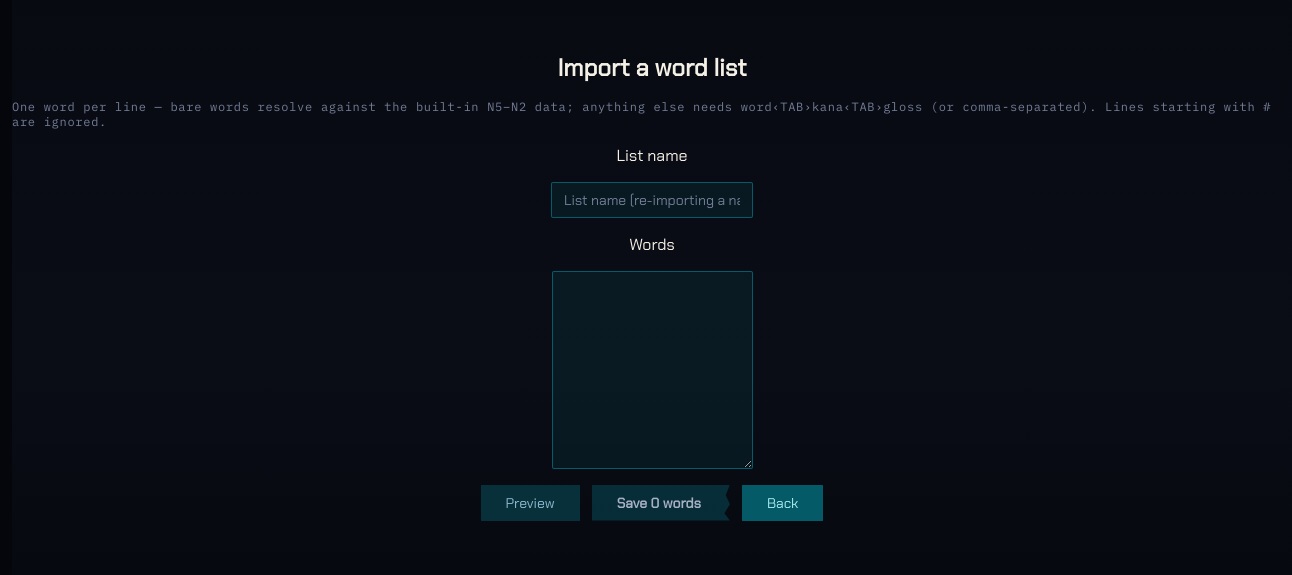
Scenario: ImportScreen › a failed save shows an inline error and stays on the screen
Type "x" into the field with test id "import-name" at x=652, y=200, box top-left (551, 182), bottom-right (753, 218)
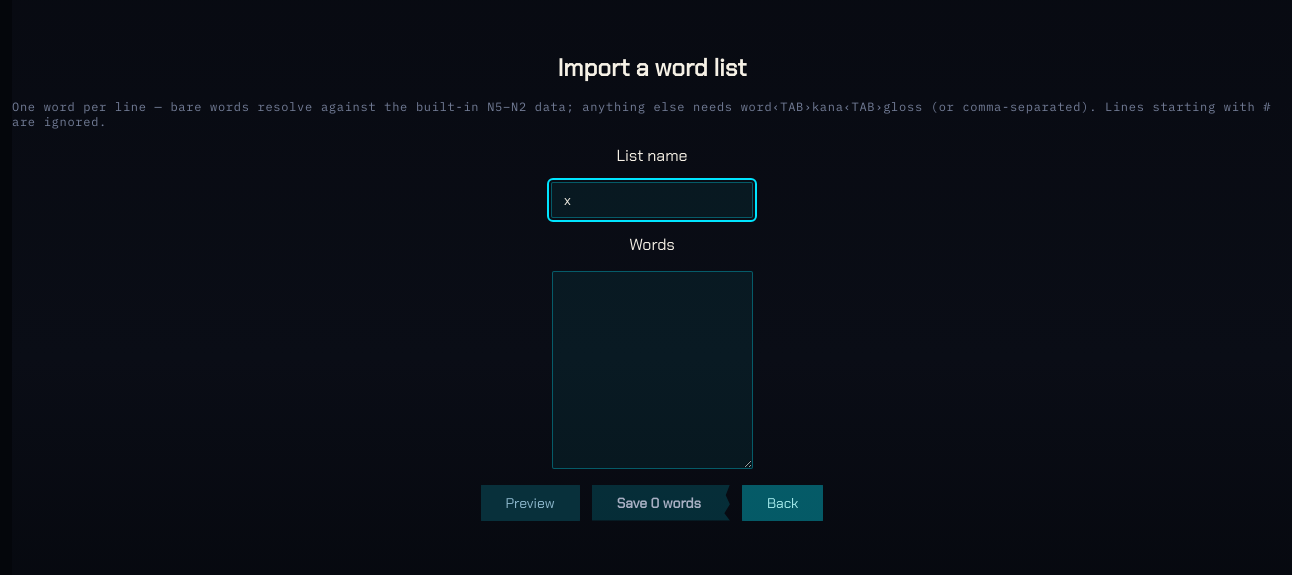
Type "犬" into the text box with test id "import-text" at x=652, y=370, box top-left (552, 270), bottom-right (752, 468)
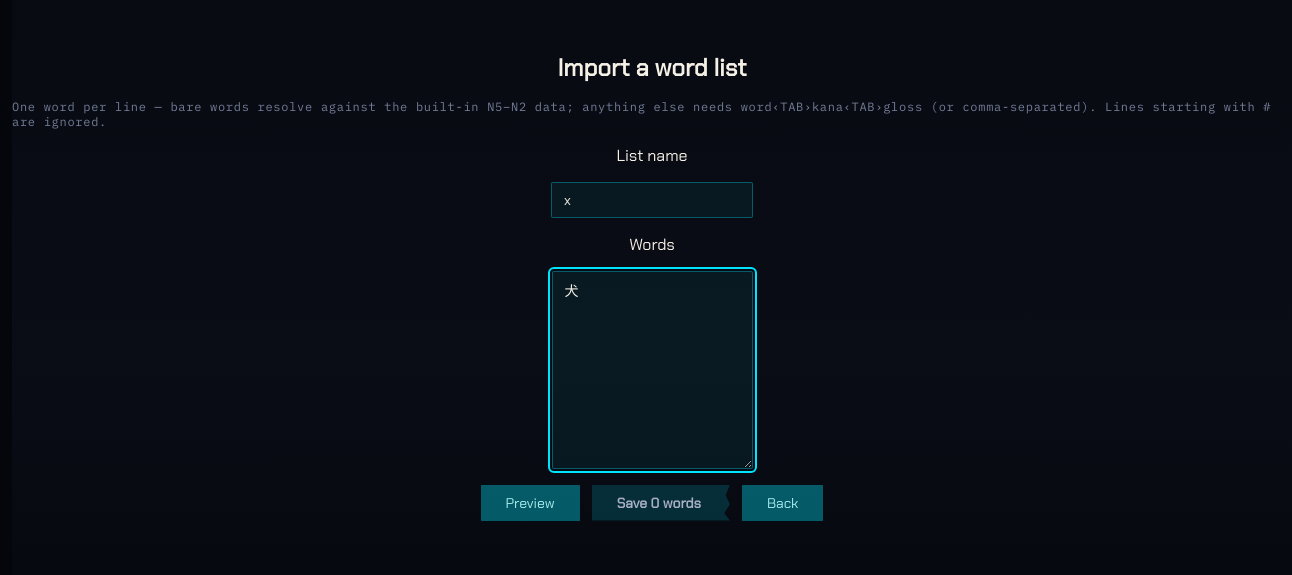
Click the button with test id "preview-button" at x=530, y=502, box top-left (480, 484), bottom-right (580, 520)
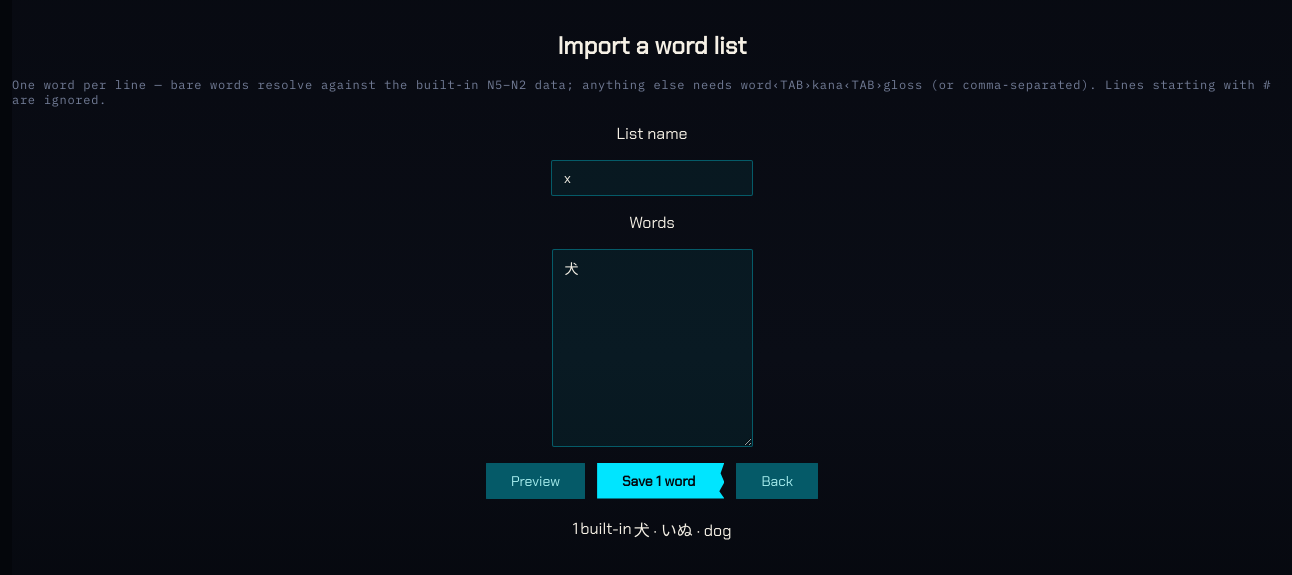
Now the button with test id "save-button" is enabled
Click the button with test id "save-button" at x=661, y=480, box top-left (597, 462), bottom-right (724, 498)
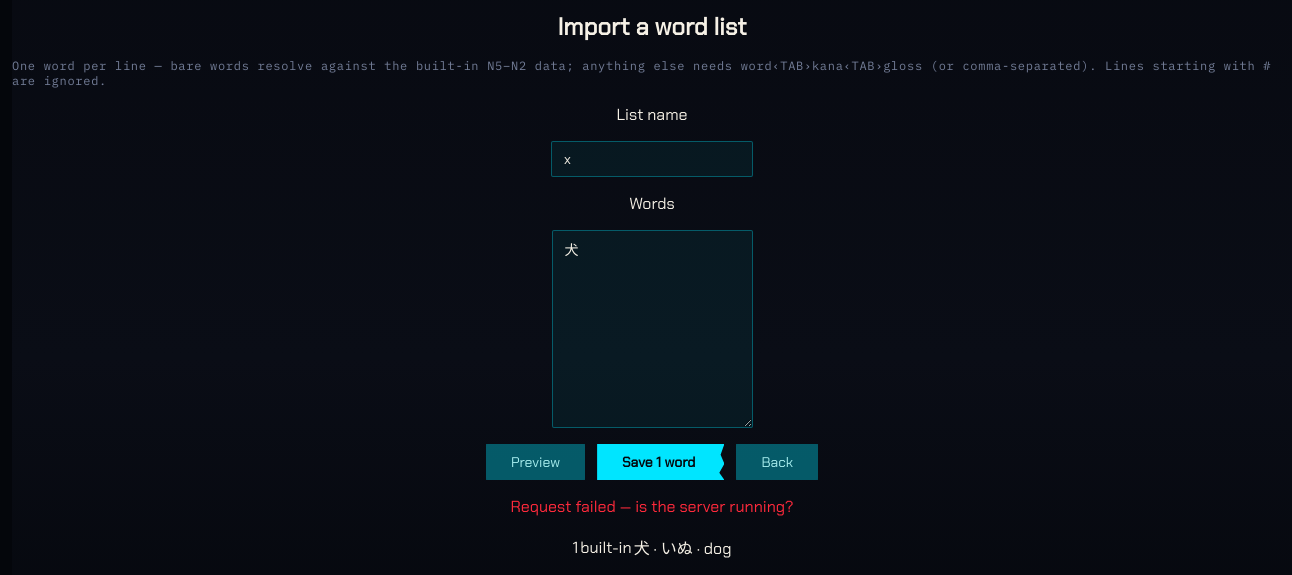
Now the text with test id "import-error" reads "Request failed — is the server running?", box top-left (510, 496), bottom-right (794, 517)
